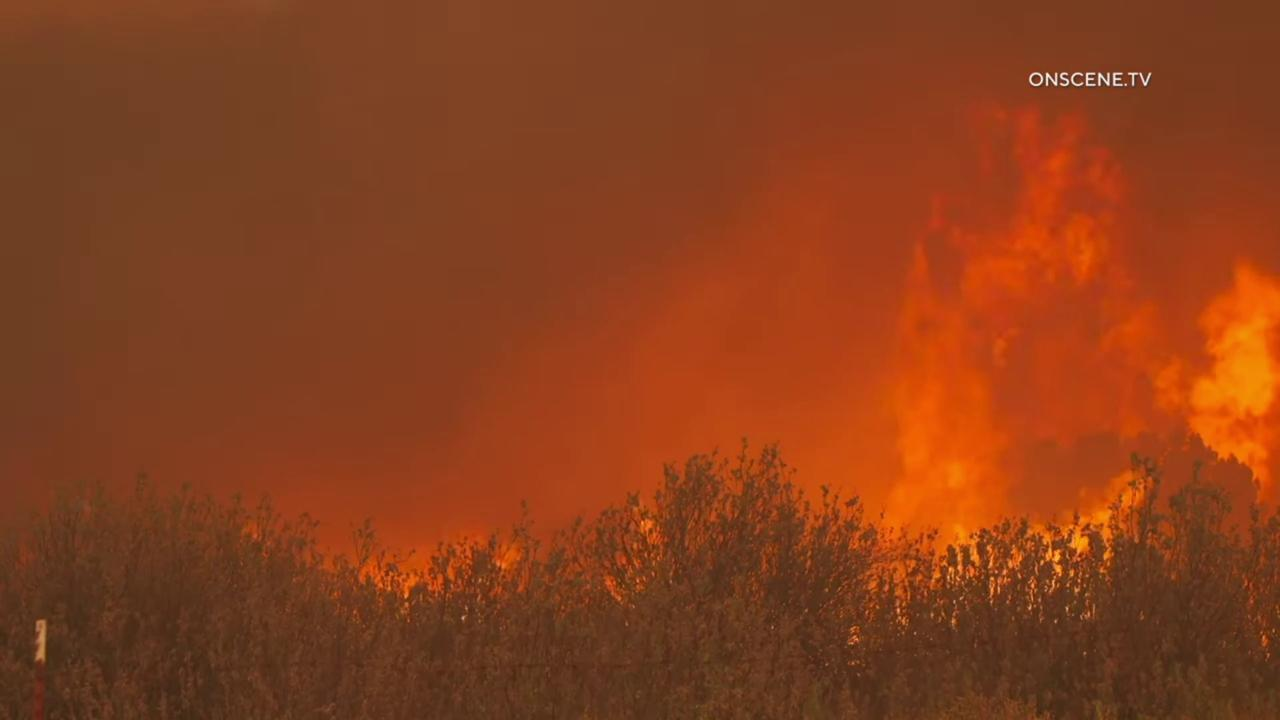fire: (854, 77, 1280, 629)
smoke: (0, 0, 1280, 650)
